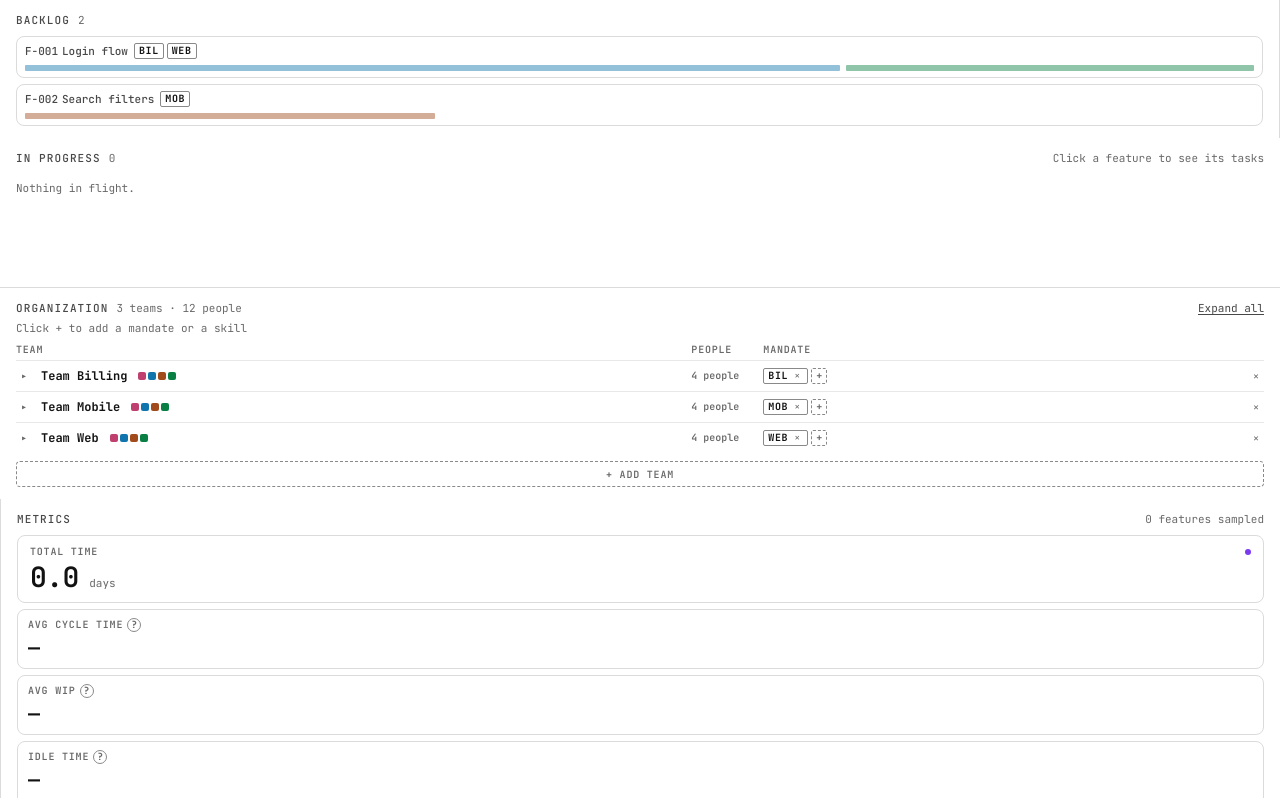
Test case: feat-028 A1 a B1–B4: panel organizace před během › B1: + nabídne zbývající oblasti v pořadí oblastí; výběr pošle novou organizaci s mandáty v pořadí oblastí
Click the button named "Add mandate": (819, 407) [811, 399, 827, 415]
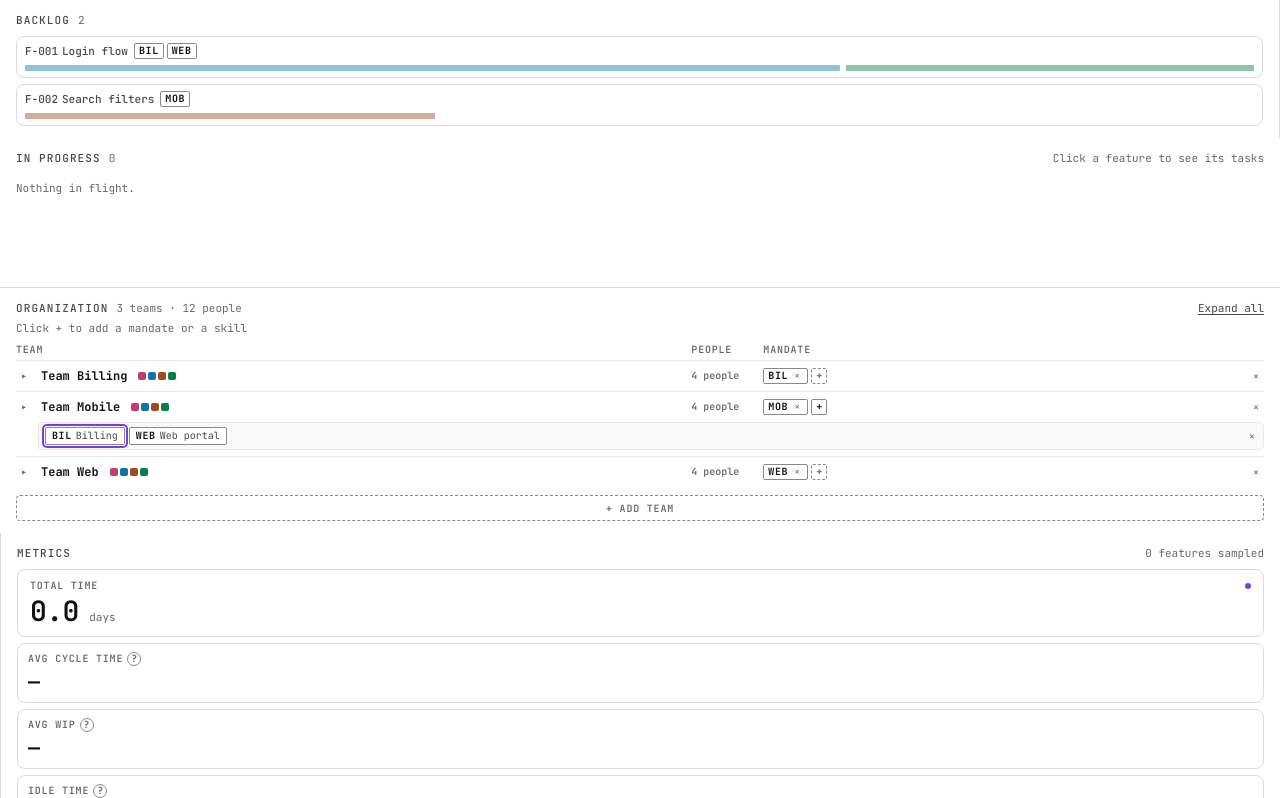
Click the menu item "BIL Billing": (85, 436) [45, 427, 125, 445]
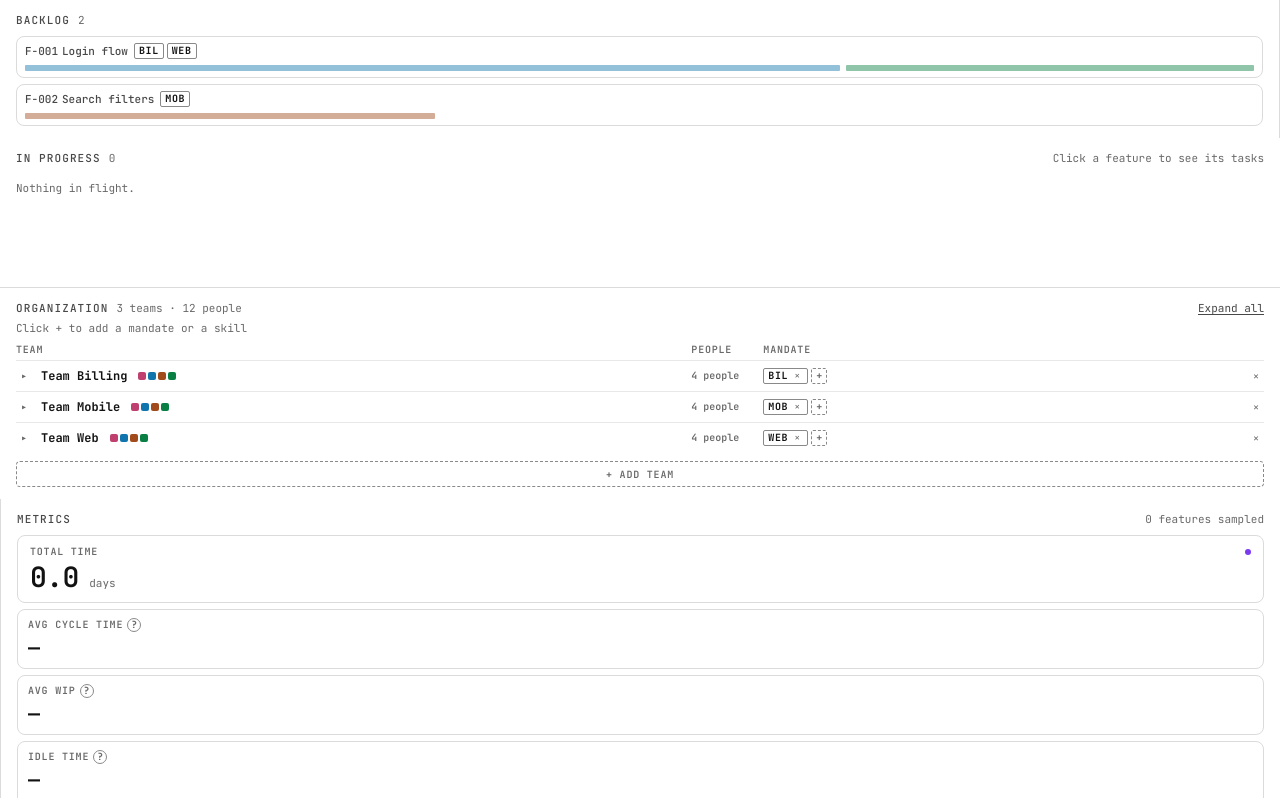
expect the menu is gone: met
